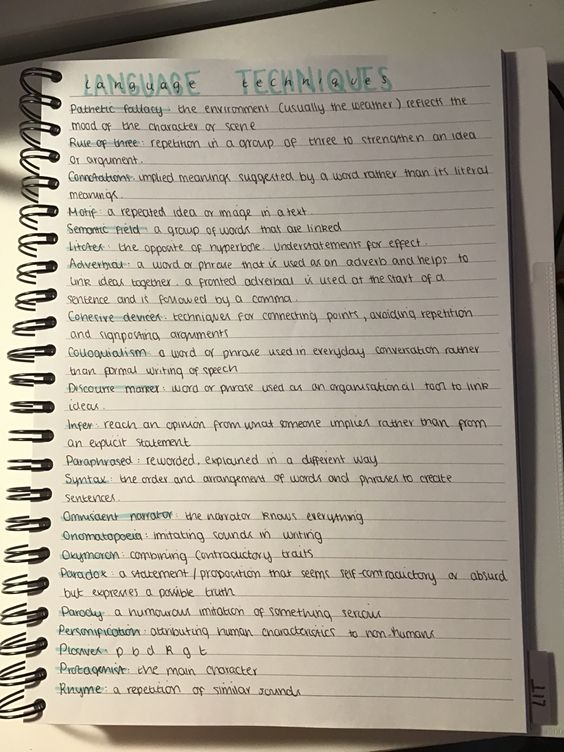page: (63, 62, 505, 720)
